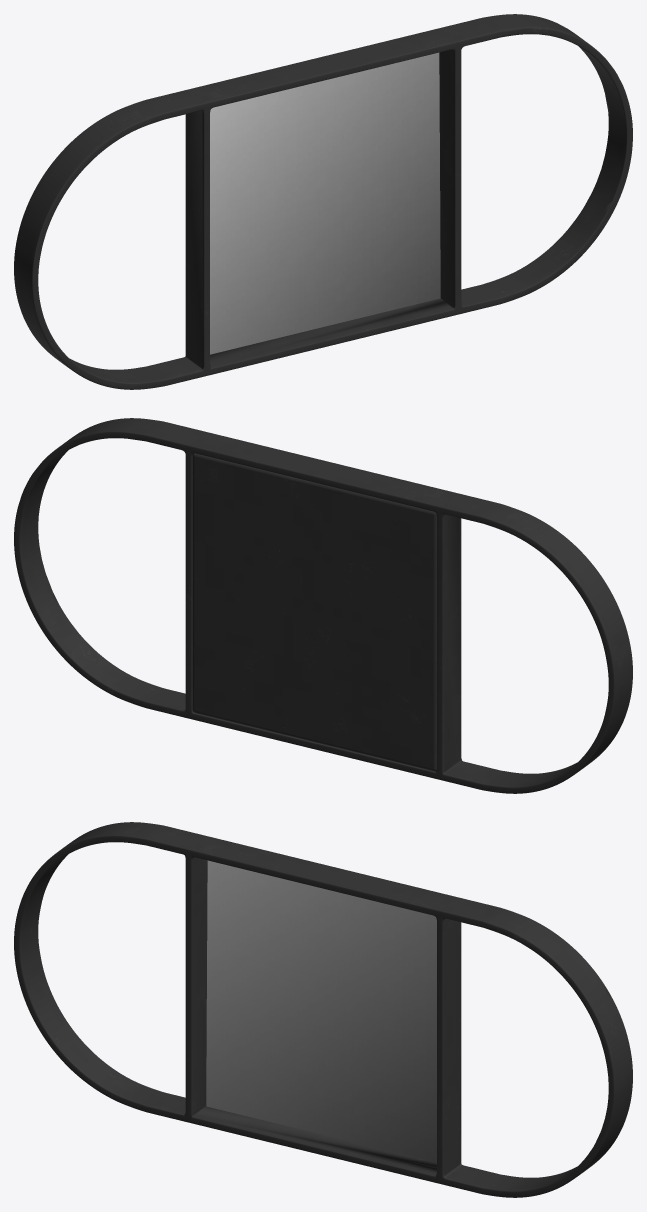
3 views of the same model, one above another, from view 1: azimuth 30°, elevation 25°; view 2: azimuth 150°, elevation 25°; view 3: azimuth 330°, elevation 25° (orthographic).
Visible parts, largest first — view 1: RootNode; view 2: RootNode; view 3: RootNode.
Boxes of the visible parts, box(x1,y1,x2,y2) form: RootNode: box(14, 14, 632, 389); RootNode: box(14, 418, 632, 793); RootNode: box(14, 822, 632, 1197).
Bounding box in the file's own units: 0.5842 × 0.254 × 0.0317.
Materials: 1 (1 with a texture image).
